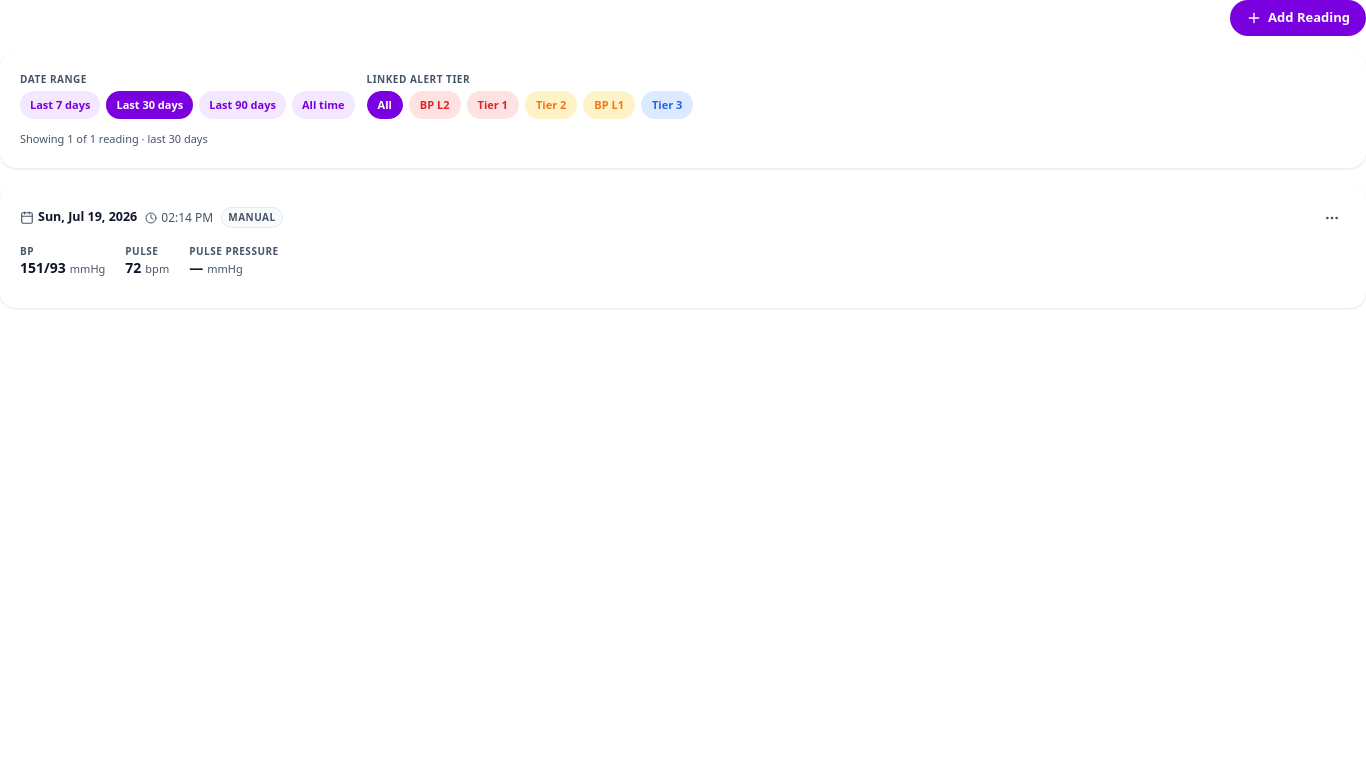
ReadingsTab — role-gated CRUD affordances › kebab → Edit opens the modal pre-populated with the row values
This screenshot has width=1366, height=768.
Click the button with test id "admin-reading-kebab-a". click: (1332, 218)
box: [1318,204,1346,232]
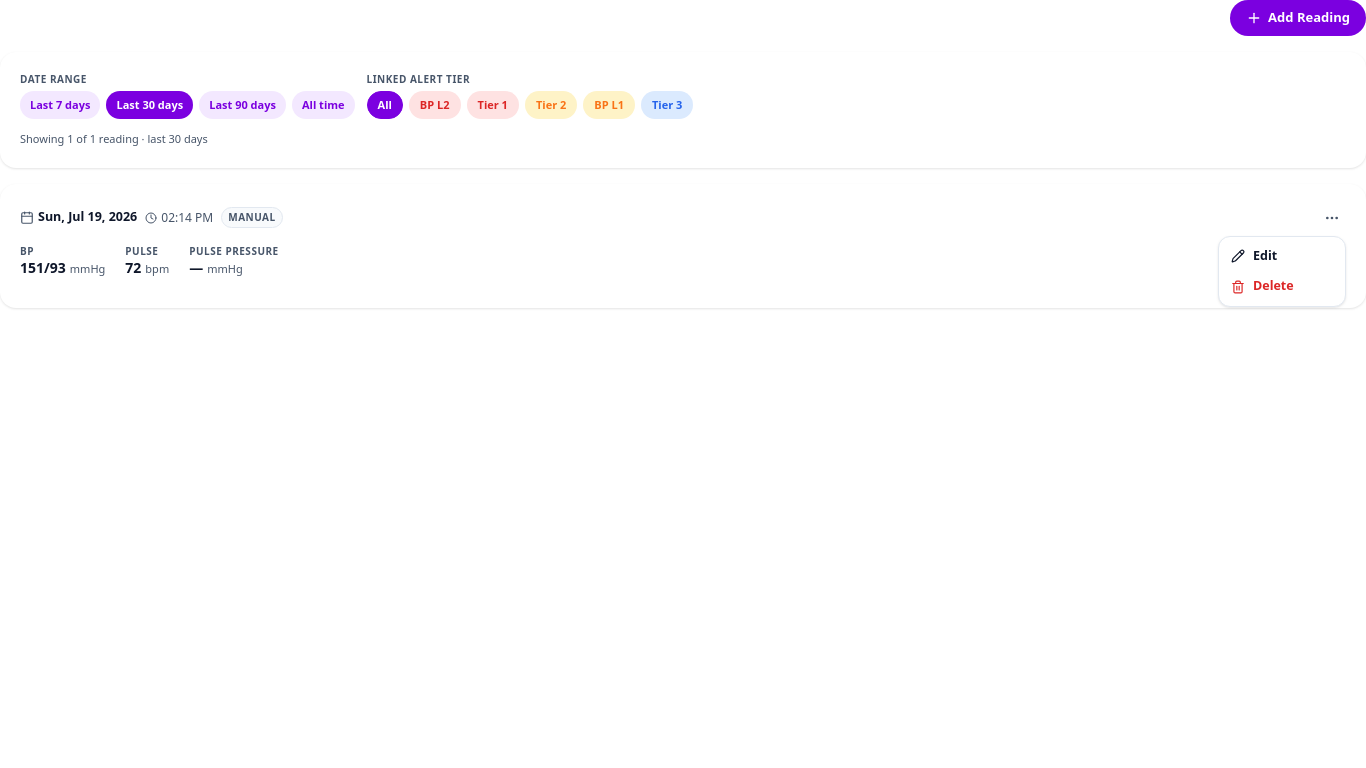
Click the menu item with test id "admin-reading-edit-a". click: (1282, 256)
box: [1219,240,1345,271]
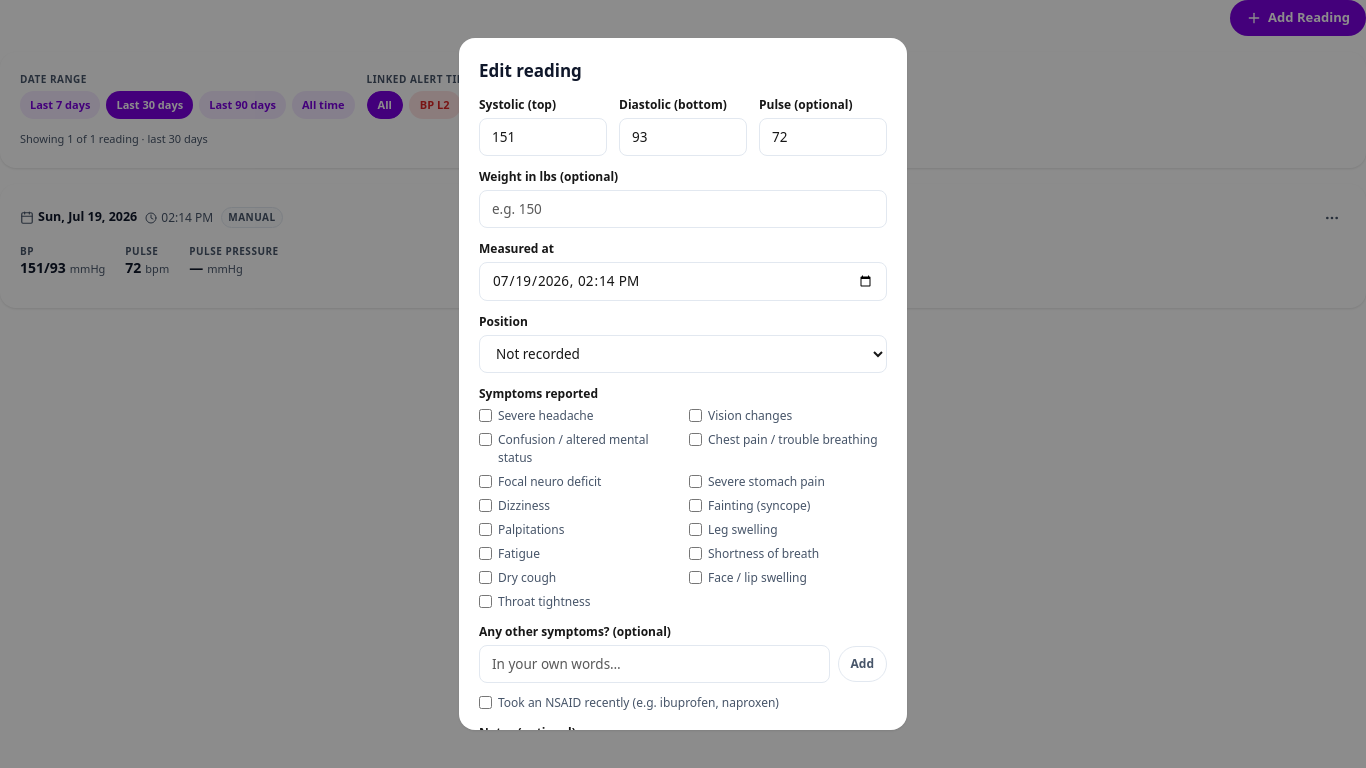
Now the dialog with test id "admin-add-edit-reading-modal" is shown
Now the number field with test id "admin-reading-systolic" holds "151", box [479,118,607,156]
Now the number field with test id "admin-reading-diastolic" holds "93", box [619,118,747,156]
